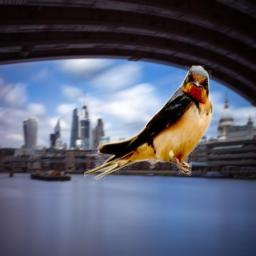Swallow: (84, 65, 214, 185)
